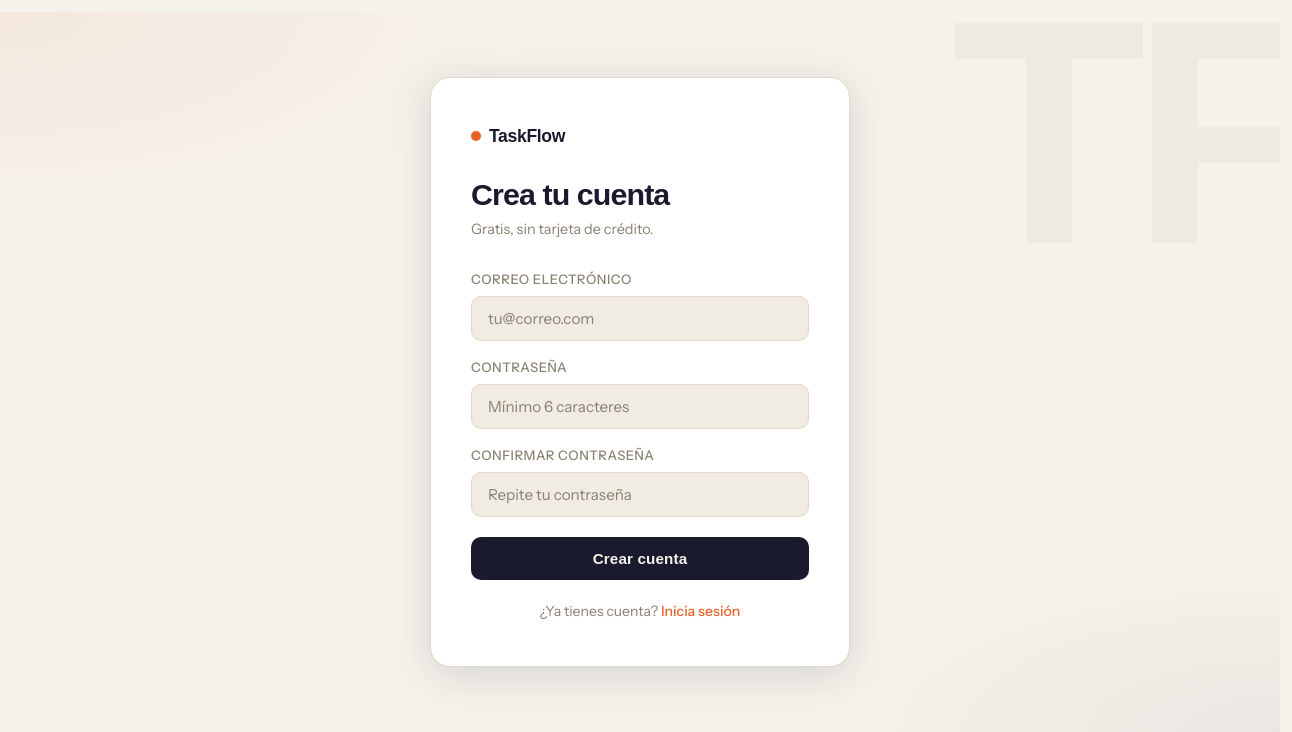
Test: Autenticación › Página de Registro › Muestra error si las contraseñas no coinciden
In the field with test id "email-input": coordinates (640, 319) [471,296,809,341], type "nuevo@correo.com"
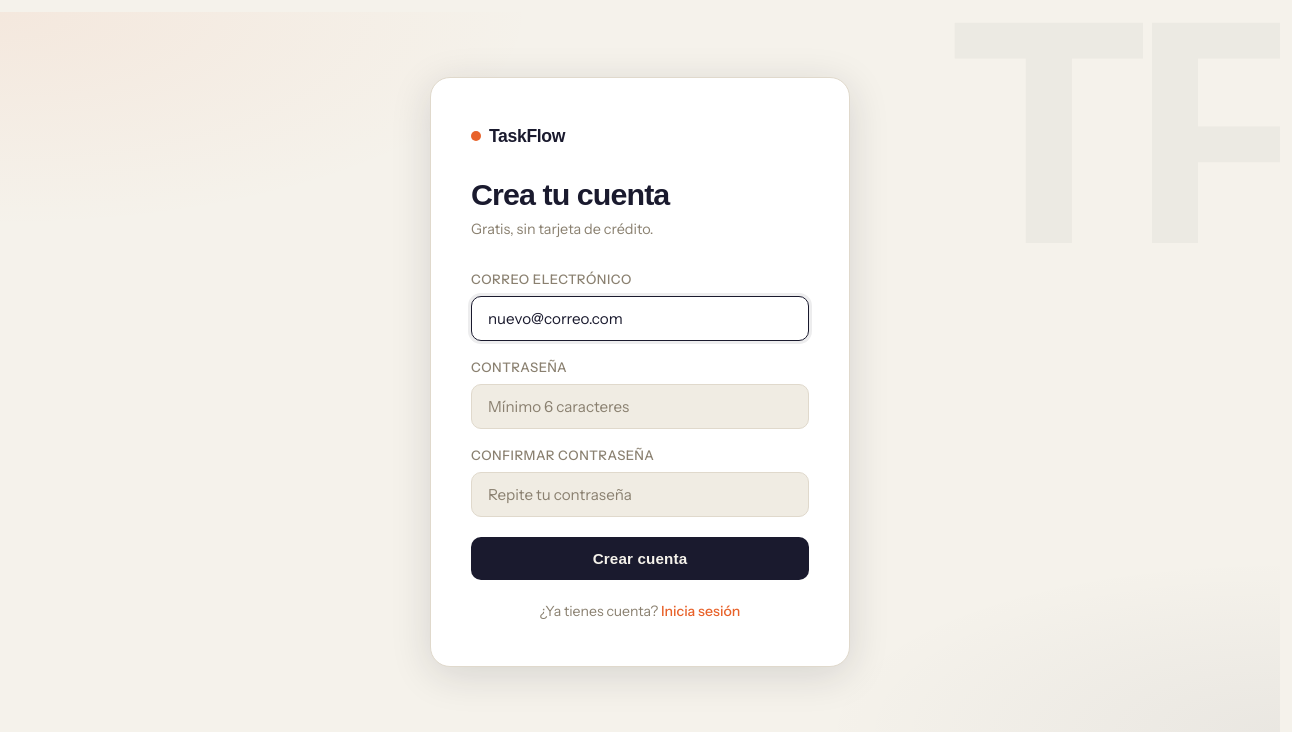
In the password field with test id "password-input": coordinates (640, 407) [471,384,809,429], type "Clave1234"
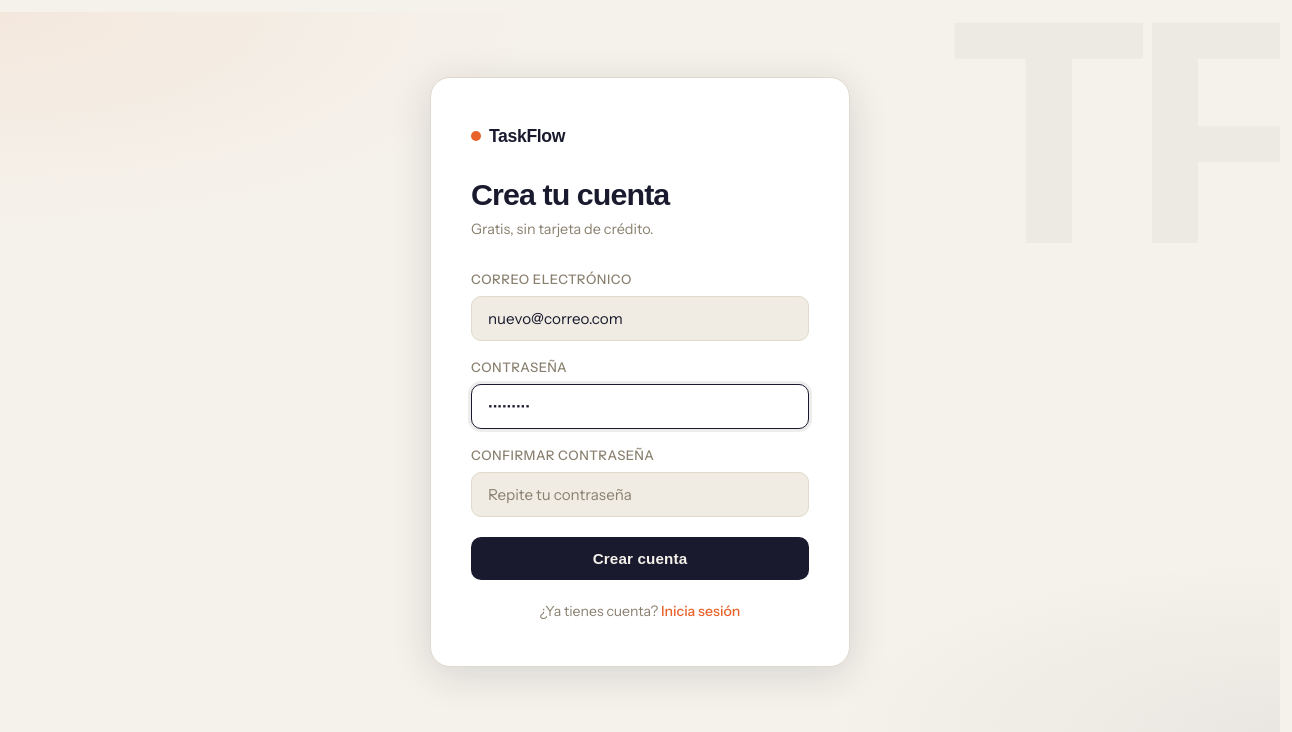
In the password field with test id "confirm-input": coordinates (640, 495) [471,472,809,517], type "ClaveDistinta"
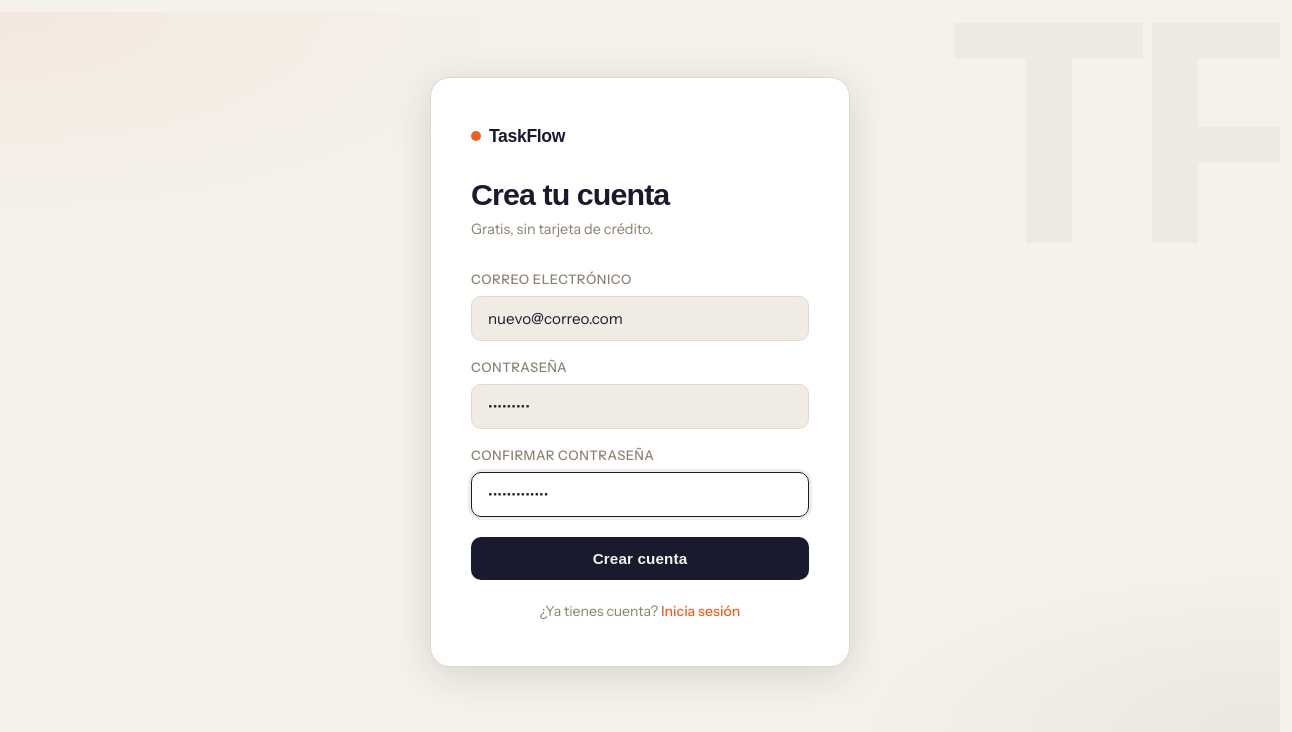
Click the button with test id "submit-btn": coordinates (640, 559) [471,537,809,580]
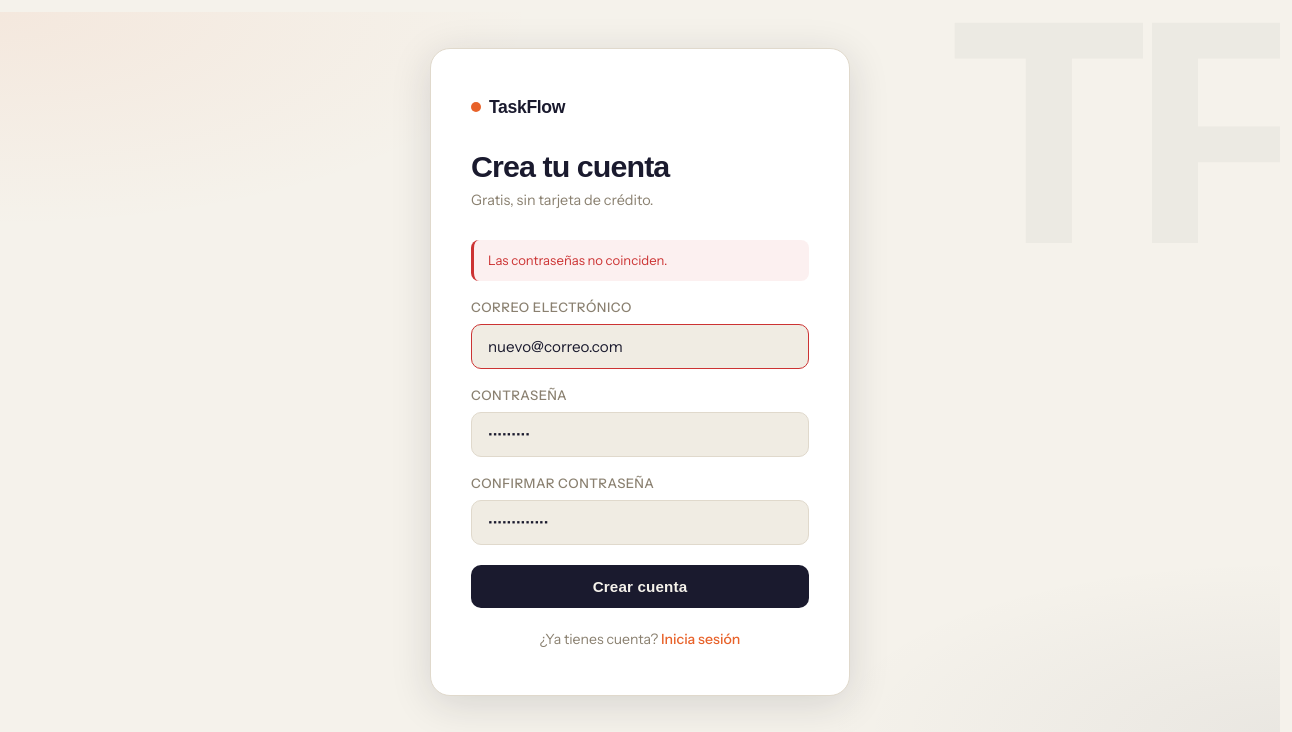
Result: the text with test id "auth-error" shows "coinciden" at [488,252,667,268]
